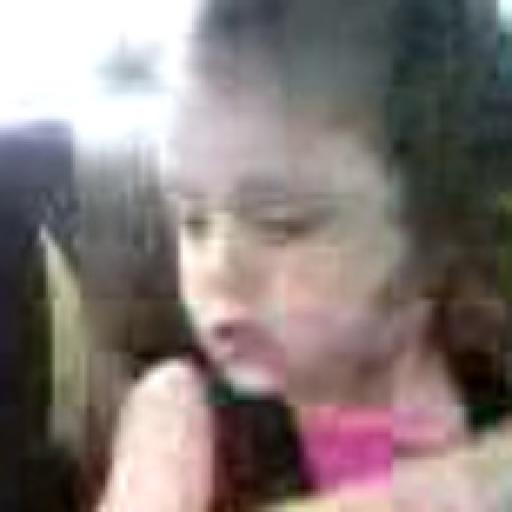Autism: (128, 58, 446, 420)
